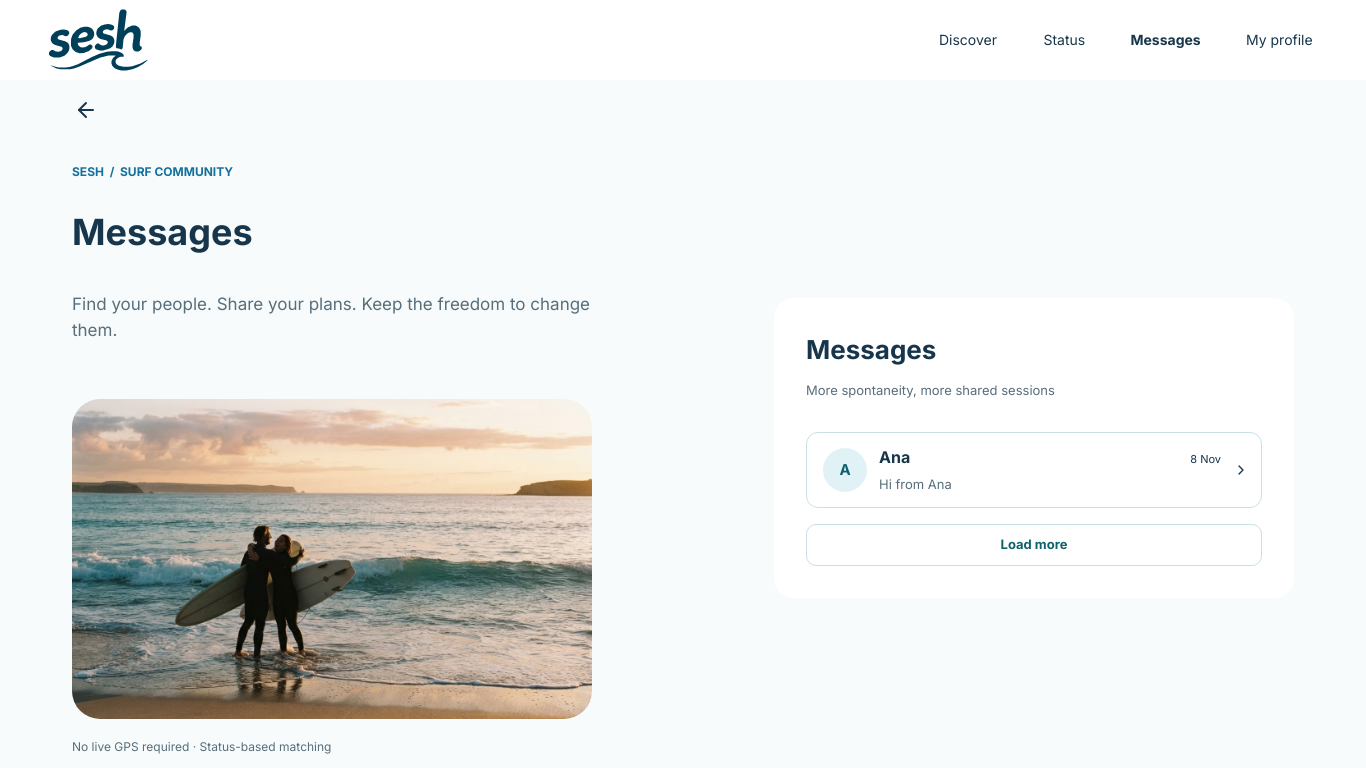
Load more › a failed page keeps the loaded conversations and can be retried
Expected: the heading "Messages" is shown, [806,334,936,364]
Click the button "Load more" at {"x": 1034, "y": 544}, box [806,524,1262,566]
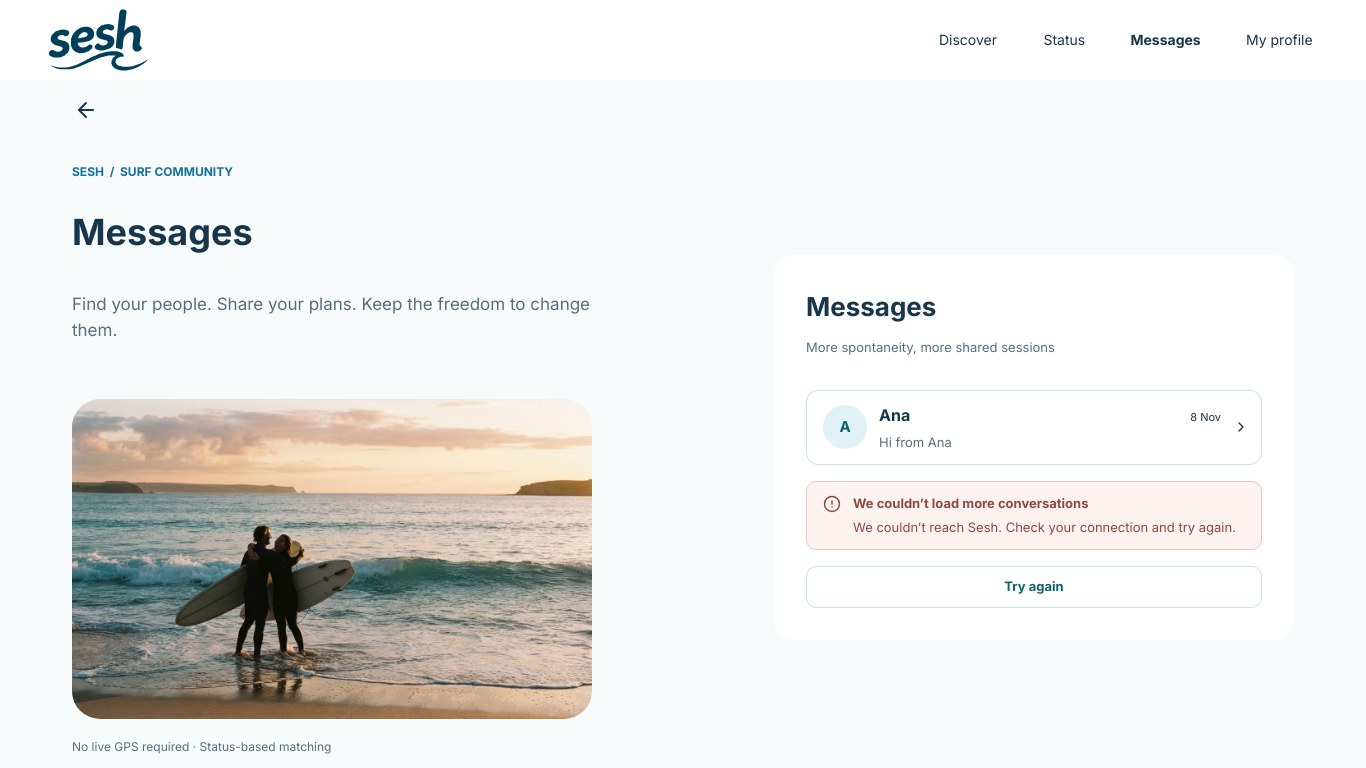
Now the message shows "We couldn’t load more conversations", box [853,495,1088,511]
Click the button "Try again" at {"x": 1034, "y": 587}, box [806,566,1262,608]
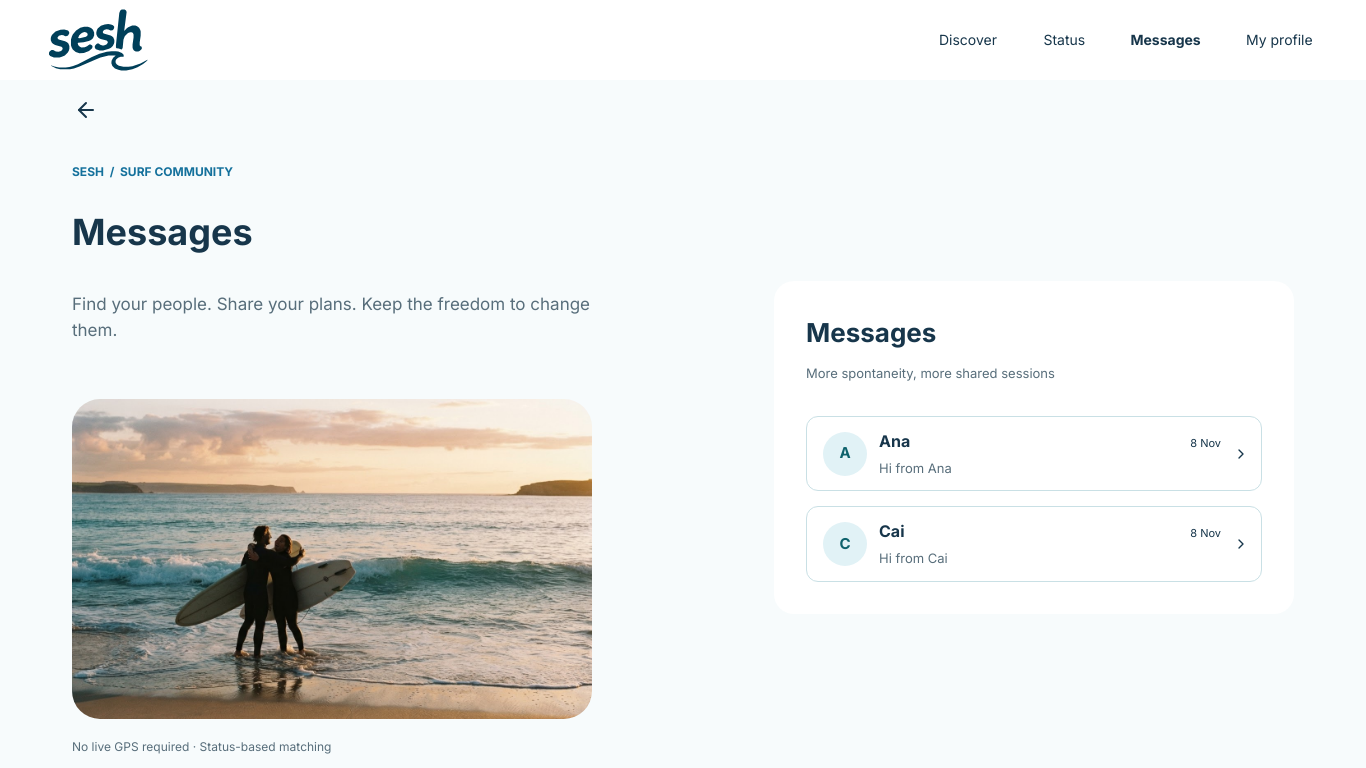
Now the message is gone
